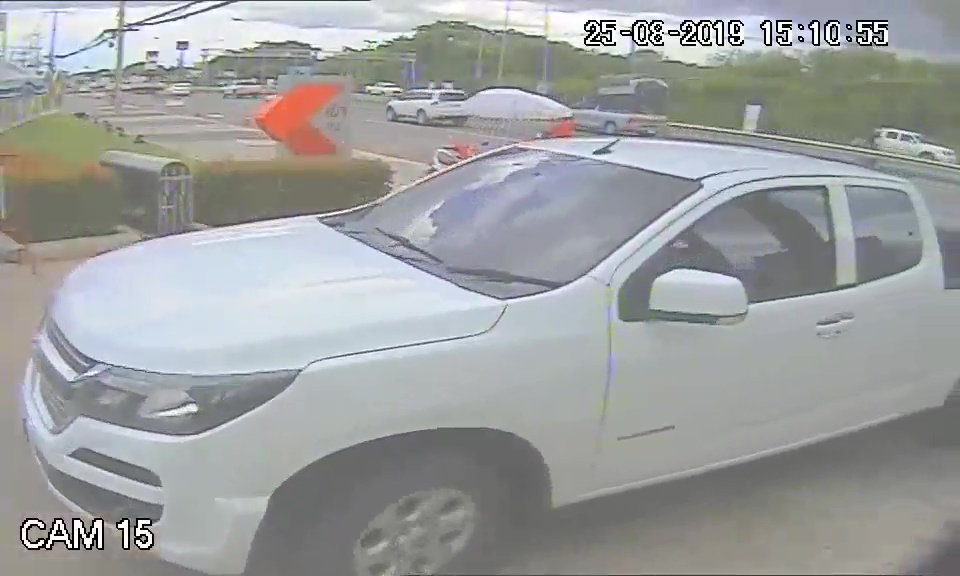pickup: (21, 131, 946, 531)
